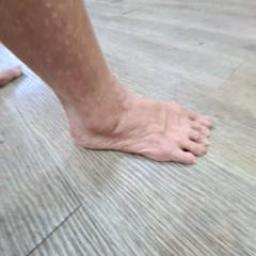Lateral View -Right Foot-: (37, 53, 236, 189)
